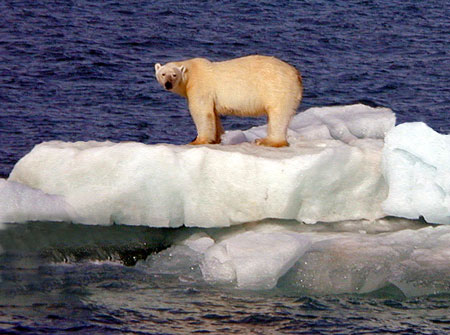Polar Bear: (147, 30, 316, 150)
